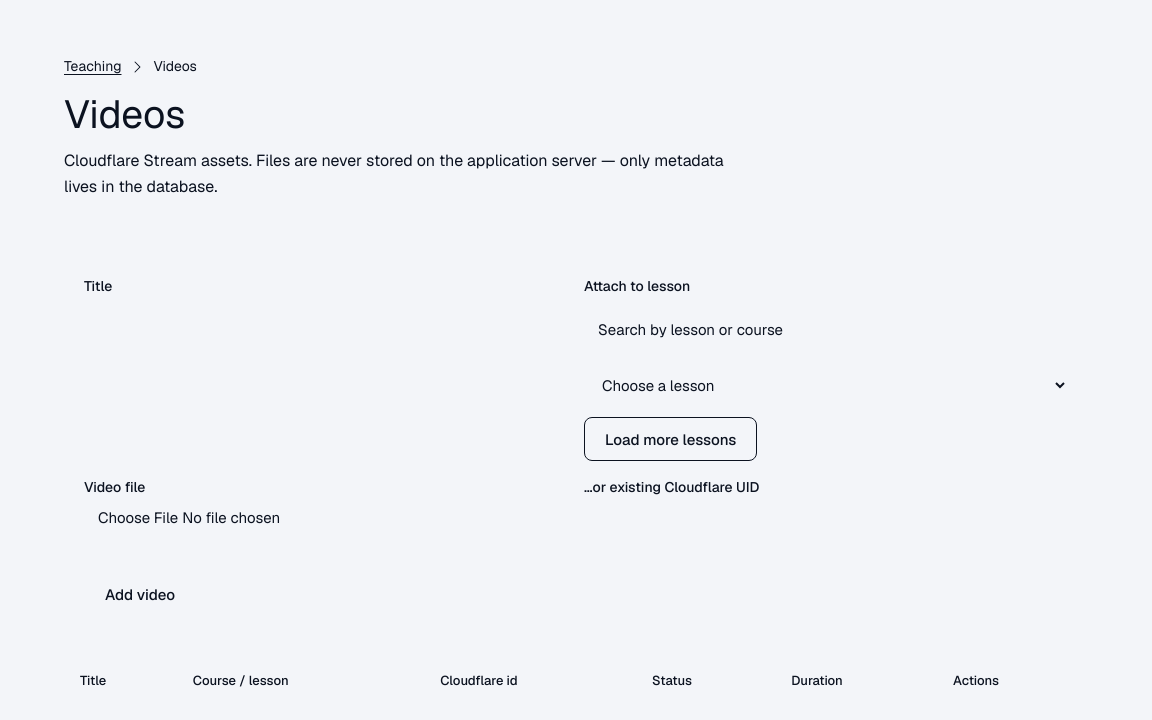
Test: video lesson picker › reports a failed 'load more' without losing the loaded lessons
This screenshot has width=1152, height=720.
Click the button "Load more lessons" at (671, 439), box x1=584 y1=417 x2=757 y2=461
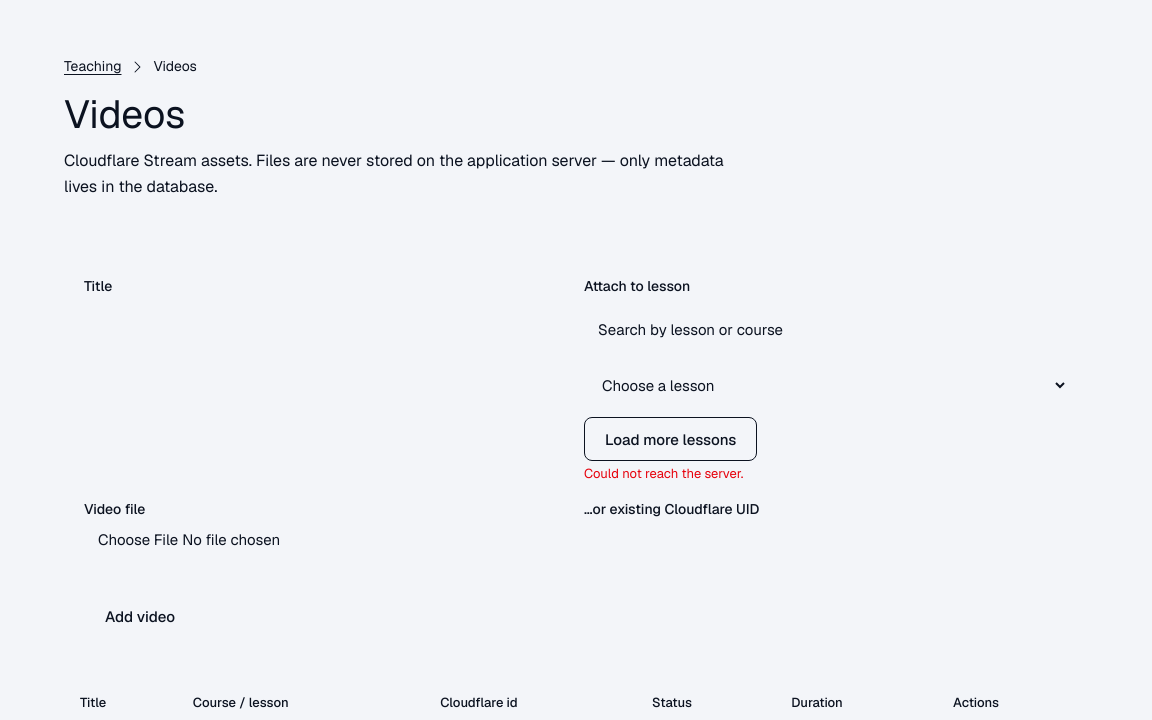
Now the text "Could not reach the server." is shown, box x1=584 y1=465 x2=743 y2=482
